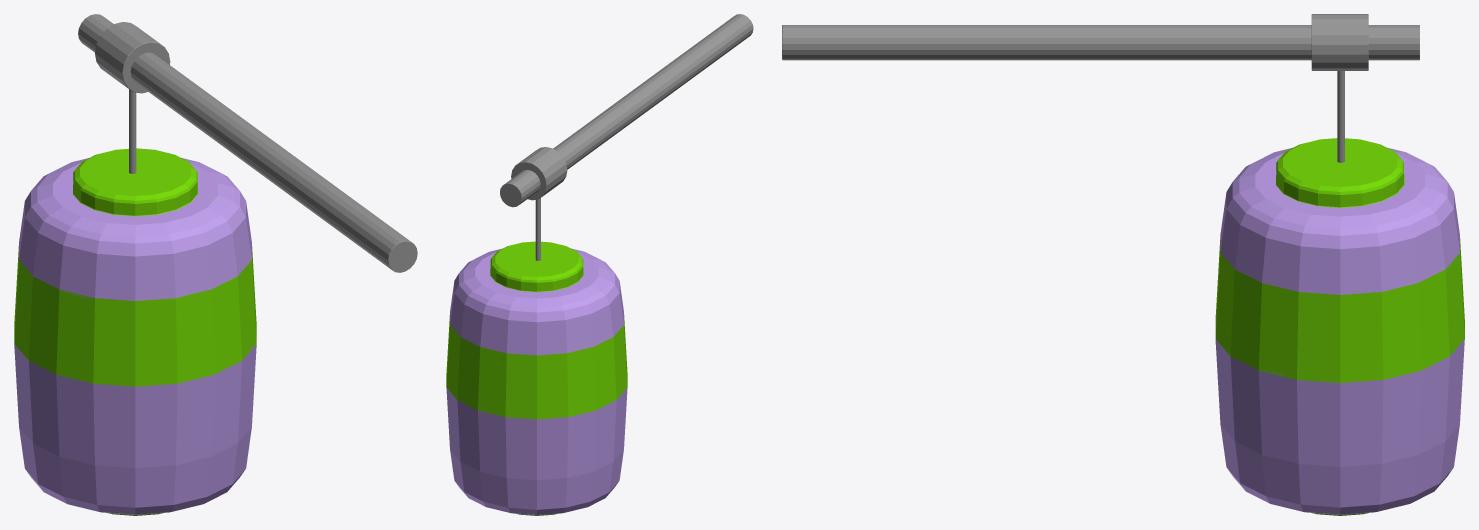
Rendered from SM_Signboard_03.fbx.
The picture shows the model from 3 angles, left to right: view 1: azimuth 30°, elevation 25°; view 2: azimuth 150°, elevation 25°; view 3: azimuth 270°, elevation 25°; orthographic projection. The views are drawn at different scales.
Visible parts, largest first — view 1: SM_Signboard_03; view 2: SM_Signboard_03; view 3: SM_Signboard_03.
Part boxes in pixels (bbox=[...]): SM_Signboard_03: bbox=[14, 14, 417, 515]; SM_Signboard_03: bbox=[446, 14, 753, 515]; SM_Signboard_03: bbox=[782, 14, 1464, 515].
Size of the model in its own units: 47.62 by 128 by 97.82.
